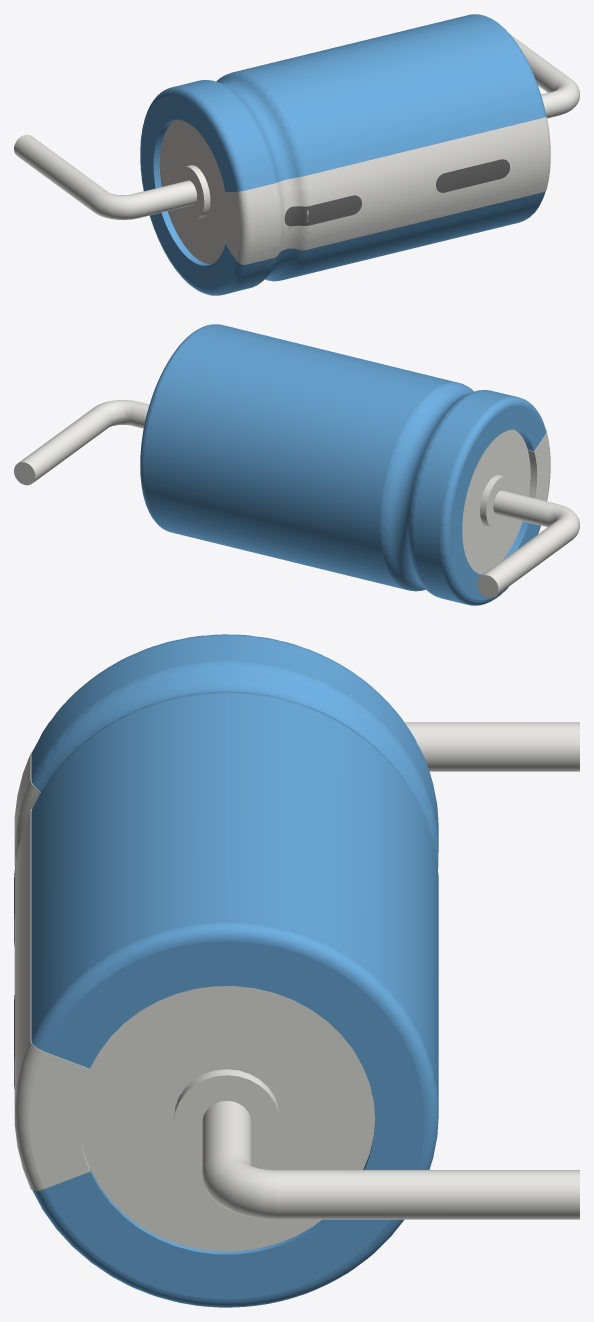
The model's file is CP_Axial_L10.0mm_D6.0mm_P15.00mm_Horizontal.glb.
3 renders of one model, top to bottom at view 1: azimuth 30°, elevation 25°; view 2: azimuth 150°, elevation 25°; view 3: azimuth 270°, elevation 25°, orthographic. The views are drawn at different scales.
Visible parts, largest first — view 1: Shape_IndexedFaceSet.009, Shape_IndexedFaceSet.053, Shape_IndexedFaceSet.069, Shape_IndexedFaceSet.006, Shape_IndexedFaceSet, Shape_IndexedFaceSet.005, Shape_IndexedFaceSet.056, Shape_IndexedFaceSet.003, Shape_IndexedFaceSet.039, Shape_IndexedFaceSet.058, Shape_IndexedFaceSet.032, Shape_IndexedFaceSet.007 (+14 smaller); view 2: Shape_IndexedFaceSet.009, Shape_IndexedFaceSet, Shape_IndexedFaceSet.069, Shape_IndexedFaceSet.005, Shape_IndexedFaceSet.006, Shape_IndexedFaceSet.003, Shape_IndexedFaceSet.060, Shape_IndexedFaceSet.056, Shape_IndexedFaceSet.007, Shape_IndexedFaceSet.058, Shape_IndexedFaceSet.002, Shape_IndexedFaceSet.011 (+8 smaller); view 3: Shape_IndexedFaceSet.009, Shape_IndexedFaceSet.064, Shape_IndexedFaceSet.012, Shape_IndexedFaceSet.060, Shape_IndexedFaceSet.011, Shape_IndexedFaceSet, Shape_IndexedFaceSet.056, Shape_IndexedFaceSet.005, Shape_IndexedFaceSet.049, Shape_IndexedFaceSet.002, Shape_IndexedFaceSet.062, Shape_IndexedFaceSet.053 (+5 smaller).
Boxes of the visible parts, <box> form: Shape_IndexedFaceSet.009: <box>232,14,542,279</box>; Shape_IndexedFaceSet.053: <box>306,118,546,249</box>; Shape_IndexedFaceSet.069: <box>159,119,227,264</box>; Shape_IndexedFaceSet.006: <box>141,95,236,289</box>; Shape_IndexedFaceSet: <box>174,80,272,294</box>; Shape_IndexedFaceSet.005: <box>217,76,298,279</box>; Shape_IndexedFaceSet.056: <box>14,134,107,211</box>; Shape_IndexedFaceSet.003: <box>140,86,246,295</box>; Shape_IndexedFaceSet.039: <box>246,184,277,264</box>; Shape_IndexedFaceSet.058: <box>134,91,561,217</box>; Shape_IndexedFaceSet.032: <box>436,159,509,192</box>; Shape_IndexedFaceSet.007: <box>216,72,306,281</box>; Shape_IndexedFaceSet.009: <box>143,324,455,590</box>; Shape_IndexedFaceSet: <box>413,390,516,604</box>; Shape_IndexedFaceSet.069: <box>462,429,530,574</box>; Shape_IndexedFaceSet.005: <box>388,386,473,589</box>; Shape_IndexedFaceSet.006: <box>449,405,545,600</box>; Shape_IndexedFaceSet.003: <box>440,396,546,605</box>; Shape_IndexedFaceSet.060: <box>18,406,111,482</box>; Shape_IndexedFaceSet.056: <box>481,519,574,595</box>; Shape_IndexedFaceSet.007: <box>380,382,473,591</box>; Shape_IndexedFaceSet.058: <box>129,401,556,527</box>; Shape_IndexedFaceSet.002: <box>408,390,487,596</box>; Shape_IndexedFaceSet.011: <box>140,324,219,530</box>; Shape_IndexedFaceSet.009: <box>31,693,438,1109</box>; Shape_IndexedFaceSet.064: <box>78,986,375,1251</box>; Shape_IndexedFaceSet.012: <box>44,941,424,1299</box>; Shape_IndexedFaceSet.060: <box>276,1170,579,1219</box>; Shape_IndexedFaceSet.011: <box>31,922,438,1307</box>; Shape_IndexedFaceSet: <box>31,636,438,842</box>; Shape_IndexedFaceSet.056: <box>404,722,579,771</box>; Shape_IndexedFaceSet.005: <box>36,673,430,831</box>; Shape_IndexedFaceSet.049: <box>29,1052,89,1188</box>; Shape_IndexedFaceSet.002: <box>31,661,438,868</box>; Shape_IndexedFaceSet.062: <box>174,1075,279,1164</box>; Shape_IndexedFaceSet.053: <box>14,812,30,1102</box>.
Size of the model in its own units: 6.18 by 2.36 by 3.16.
